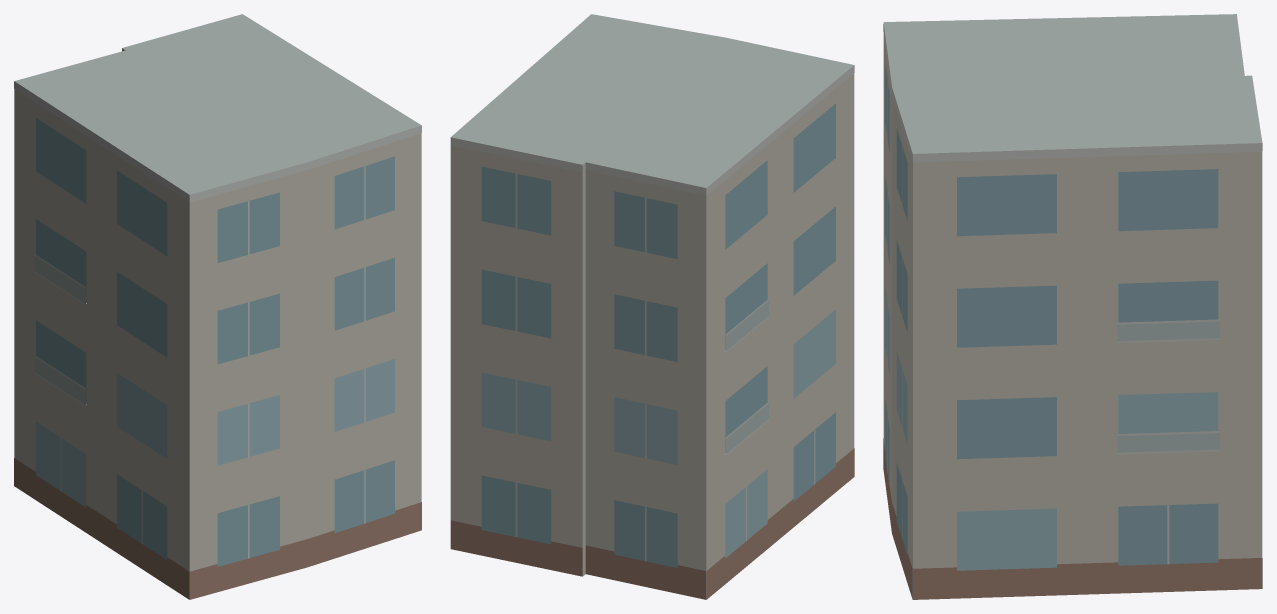
Rendered from survey-upis-32622348.glb.
3 views of the same model, side by side, from view 1: azimuth 30°, elevation 25°; view 2: azimuth 150°, elevation 25°; view 3: azimuth 270°, elevation 25° (orthographic). The views are drawn at different scales.
Visible parts, largest first — view 1: survey-upis-32622348.tmp; view 2: survey-upis-32622348.tmp; view 3: survey-upis-32622348.tmp.
Boxes of the visible parts, <box> form: survey-upis-32622348.tmp: <box>14,14,421,599</box>; survey-upis-32622348.tmp: <box>450,14,854,599</box>; survey-upis-32622348.tmp: <box>883,14,1262,599</box>.
Size of the model in its own units: 8.62 by 12.8 by 9.87.
